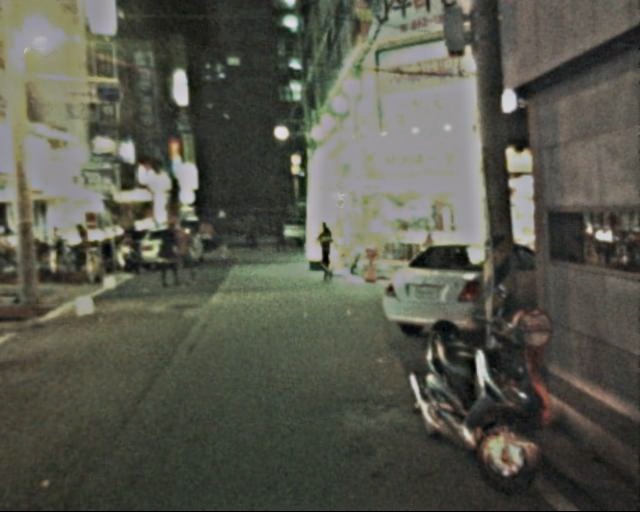person: (164, 217, 196, 284), (309, 220, 338, 280), (152, 224, 179, 287), (208, 207, 233, 259), (191, 208, 214, 260), (263, 217, 286, 254), (236, 212, 256, 251)
